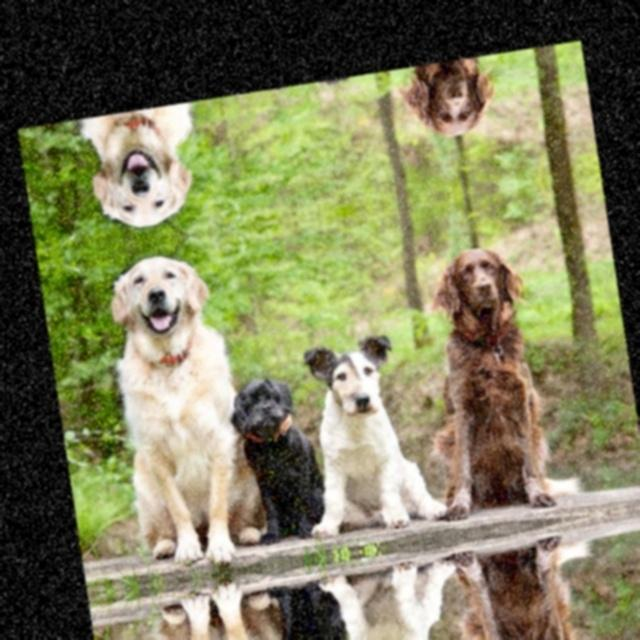dog: (94, 239, 260, 568), (412, 232, 566, 524), (297, 314, 440, 538), (74, 102, 212, 244), (457, 532, 588, 640), (384, 54, 510, 154), (333, 559, 462, 640), (146, 585, 282, 640), (261, 74, 376, 110)
